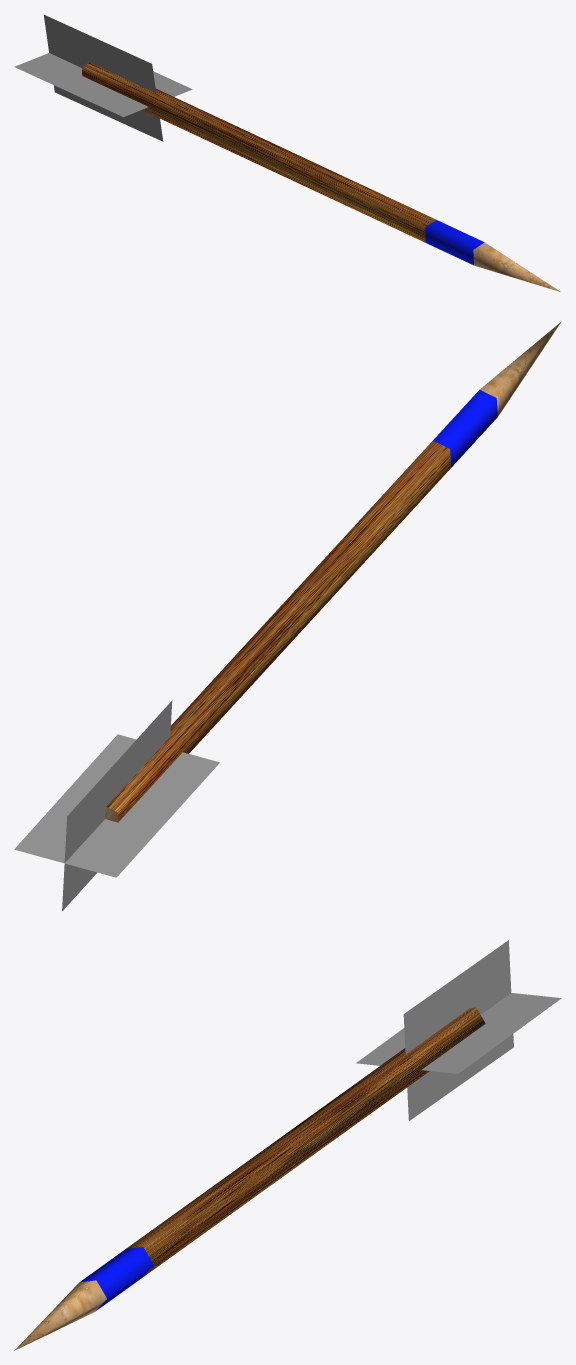
The model's file is arrow.FBX.
The picture shows the model from 3 angles, top to bottom: view 1: azimuth 30°, elevation 25°; view 2: azimuth 150°, elevation 25°; view 3: azimuth 330°, elevation 25°; orthographic projection. The views are drawn at different scales.
Parts seen in each view (by area): view 1: Cylinder011, Plane003, Plane002; view 2: Cylinder011, Plane002, Plane003; view 3: Cylinder011, Plane003, Plane002.
Boxes of the visible parts, <box> form: Cylinder011: <box>82,62,560,291</box>; Plane003: <box>43,15,163,141</box>; Plane002: <box>14,53,192,116</box>; Cylinder011: <box>105,321,561,822</box>; Plane002: <box>14,734,219,877</box>; Plane003: <box>62,700,172,911</box>; Cylinder011: <box>14,1007,485,1350</box>; Plane003: <box>403,940,513,1120</box>; Plane002: <box>356,993,561,1073</box>.
Bounding box in the file's own units: 1.93 × 1.92 × 14.14.
